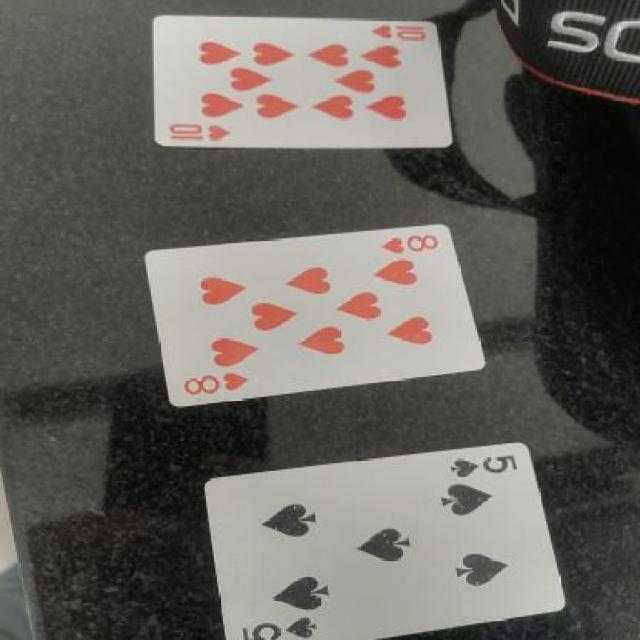10H: (166, 114, 235, 145), (360, 24, 438, 51)
5S: (434, 449, 532, 485)
8H: (374, 228, 449, 267), (178, 364, 254, 401)
